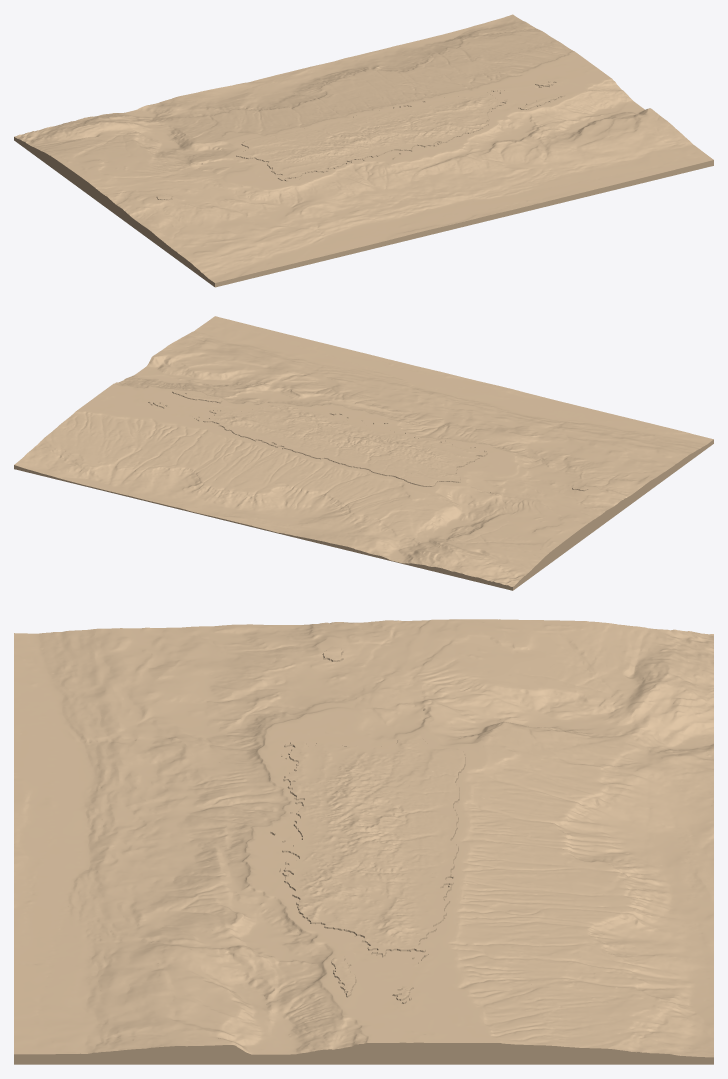
The model's file is puerto rico cropped.glb.
3 views of the same model, one above another, from view 1: azimuth 30°, elevation 25°; view 2: azimuth 150°, elevation 25°; view 3: azimuth 270°, elevation 25° (orthographic). The views are drawn at different scales.
Size of the model in its own units: 0.807 by 0.0237 by 0.5632.
